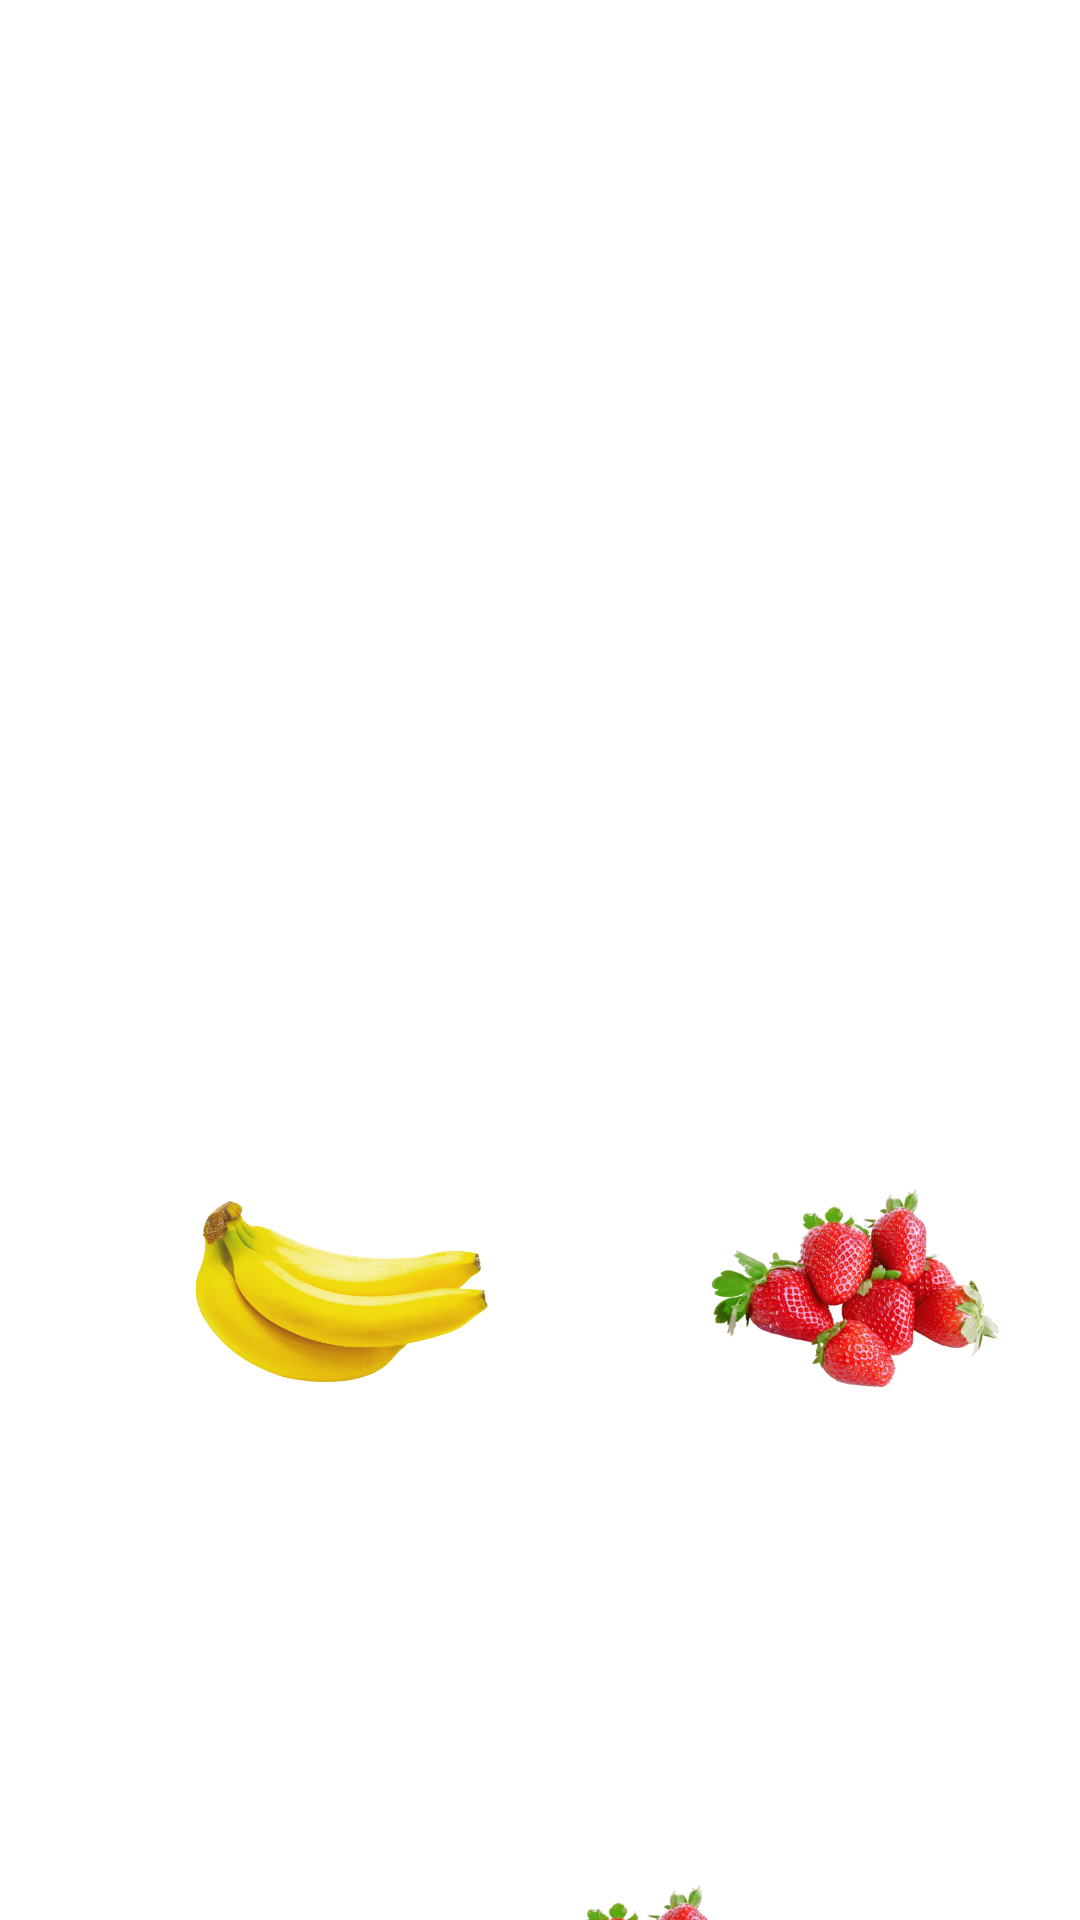

Named icons in this screenshot (1080x1920) and their centers, point (x, y):
banana: point (341, 1291)
